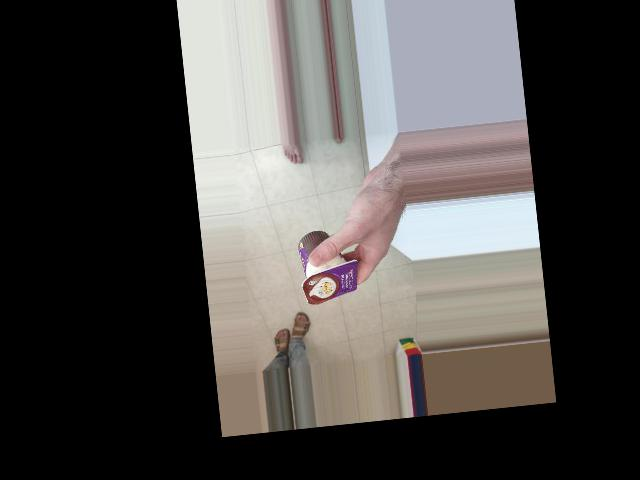milky: (295, 227, 358, 310)
